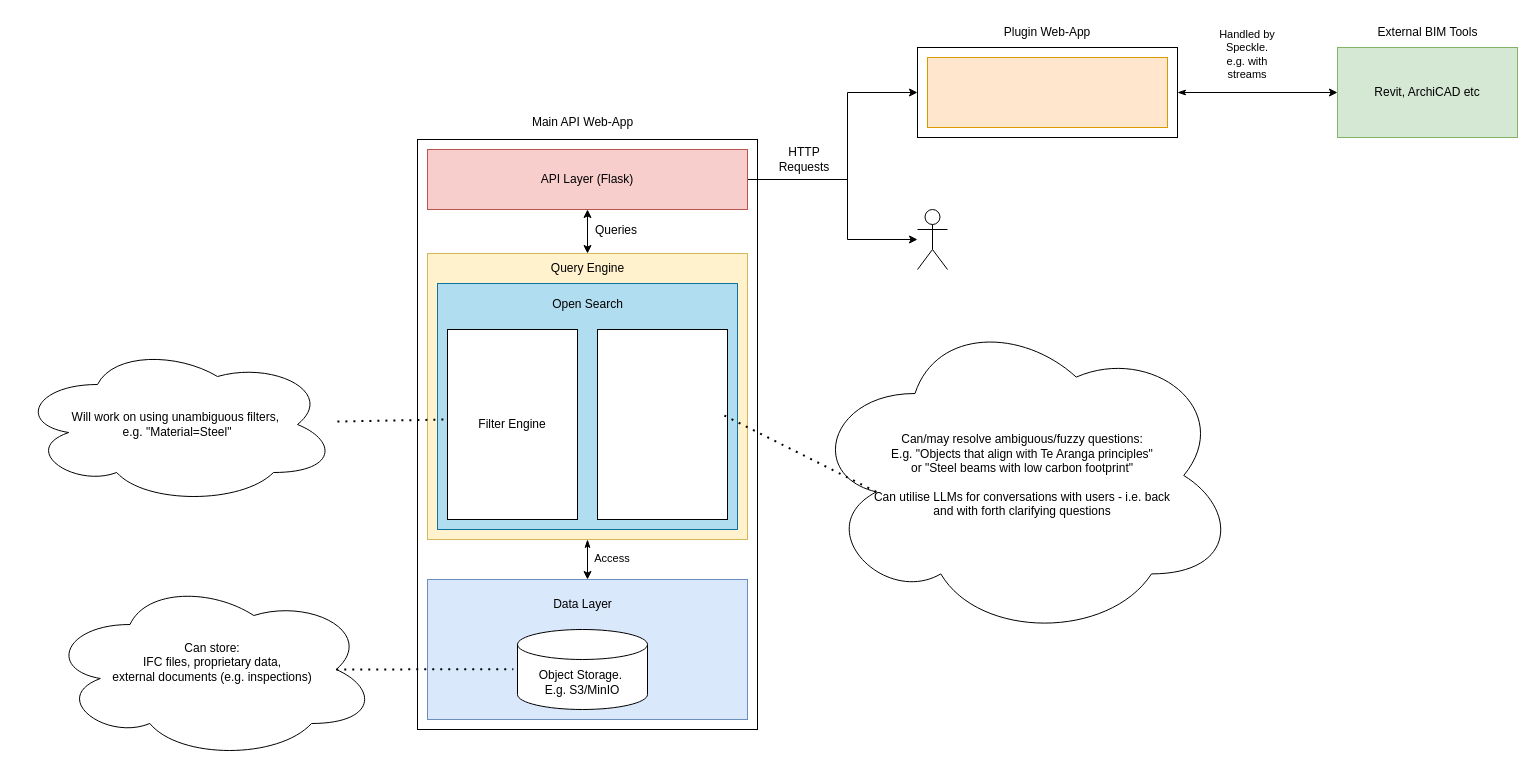
The diagram is 1535 pixels wide and 777 high, and some of its shapes have lost their labels. Here are the shapes that lost their labels. From the top down, the centre of each, then its label:
At pixel 1047 92: "Speckle".
At pixel 932 239: "Other Users".
At pixel 662 424: "NLP processing".
